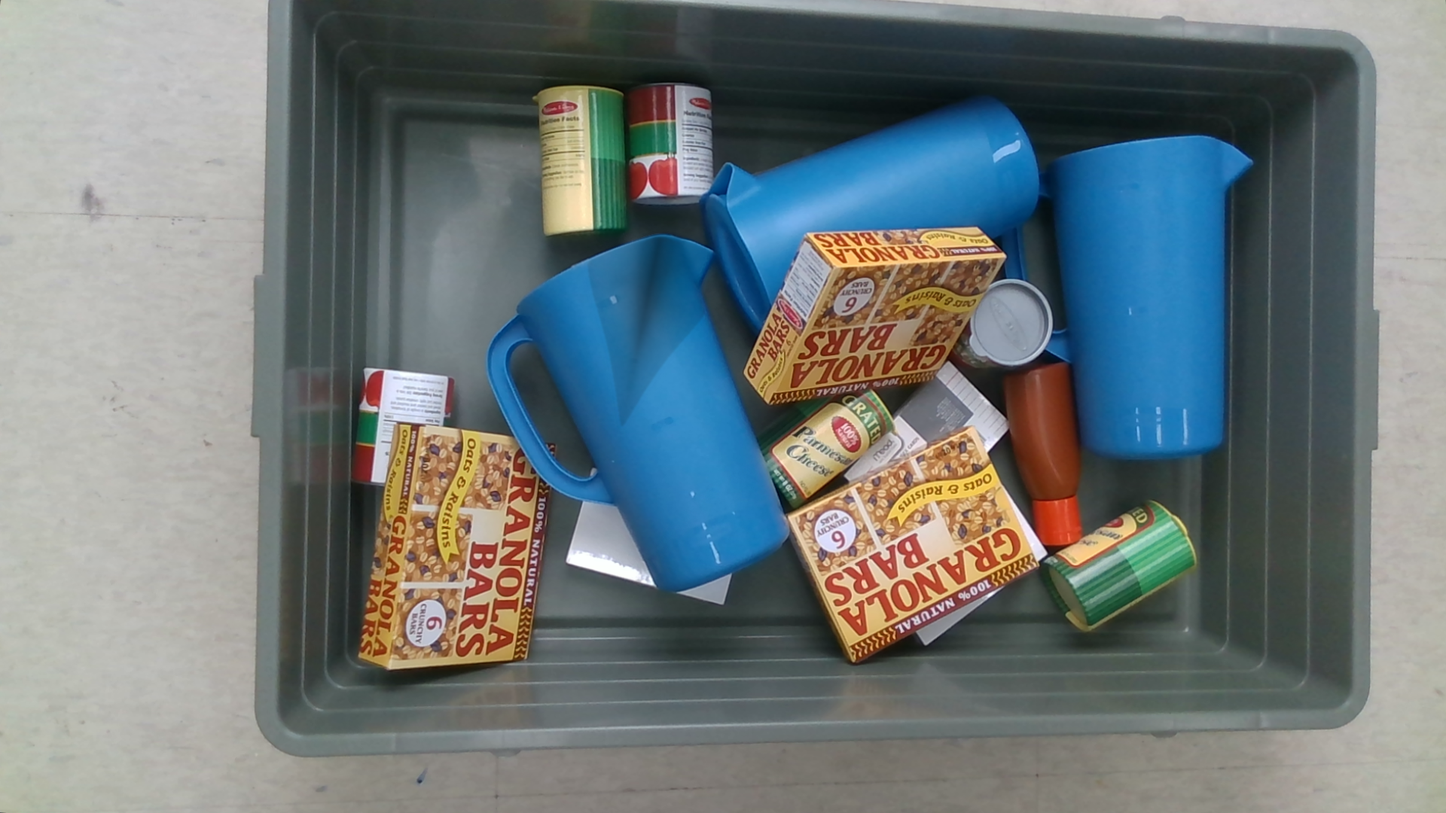defect: (587, 235, 711, 426)
